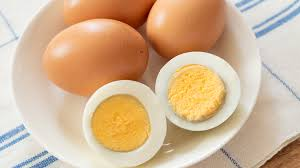Telur rebus: (80, 74, 165, 168), (158, 51, 243, 132)
